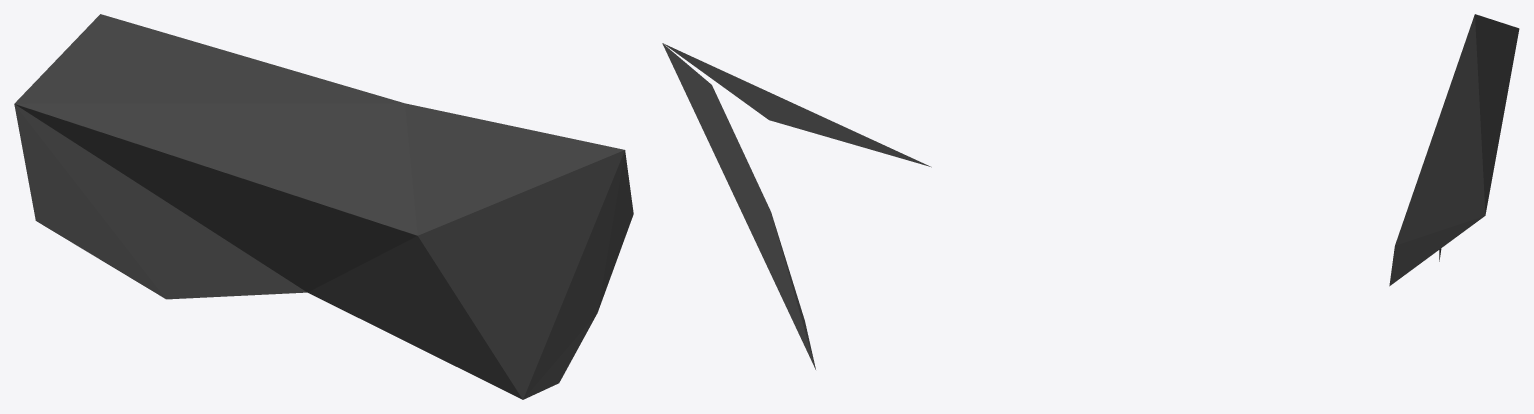
File: A_renal_L_ramus_adrenal_caud_A_renal_L_ramus_adrenal_caud.glb
3 renders of one model, left to right at view 1: azimuth 30°, elevation 25°; view 2: azimuth 150°, elevation 25°; view 3: azimuth 270°, elevation 25°, orthographic. The views are drawn at different scales.
Parts seen in each view (by area): view 1: A_renal_L_ramus_adrenal_caud_A_renal_L_ramus_adrenal_caud; view 2: A_renal_L_ramus_adrenal_caud_A_renal_L_ramus_adrenal_caud; view 3: A_renal_L_ramus_adrenal_caud_A_renal_L_ramus_adrenal_caud.
Part boxes in pixels (bbox=[...]): A_renal_L_ramus_adrenal_caud_A_renal_L_ramus_adrenal_caud: bbox=[14, 14, 633, 399]; A_renal_L_ramus_adrenal_caud_A_renal_L_ramus_adrenal_caud: bbox=[662, 43, 931, 369]; A_renal_L_ramus_adrenal_caud_A_renal_L_ramus_adrenal_caud: bbox=[1389, 14, 1519, 286].
Size of the model in its own units: 0.00386 by 0.00262 by 0.00149.
Materials: 1 (1 with a texture image).
